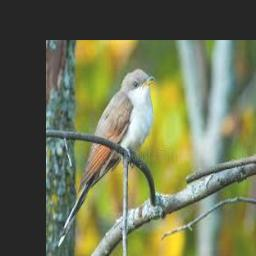Cuckoo: (57, 68, 155, 246)
